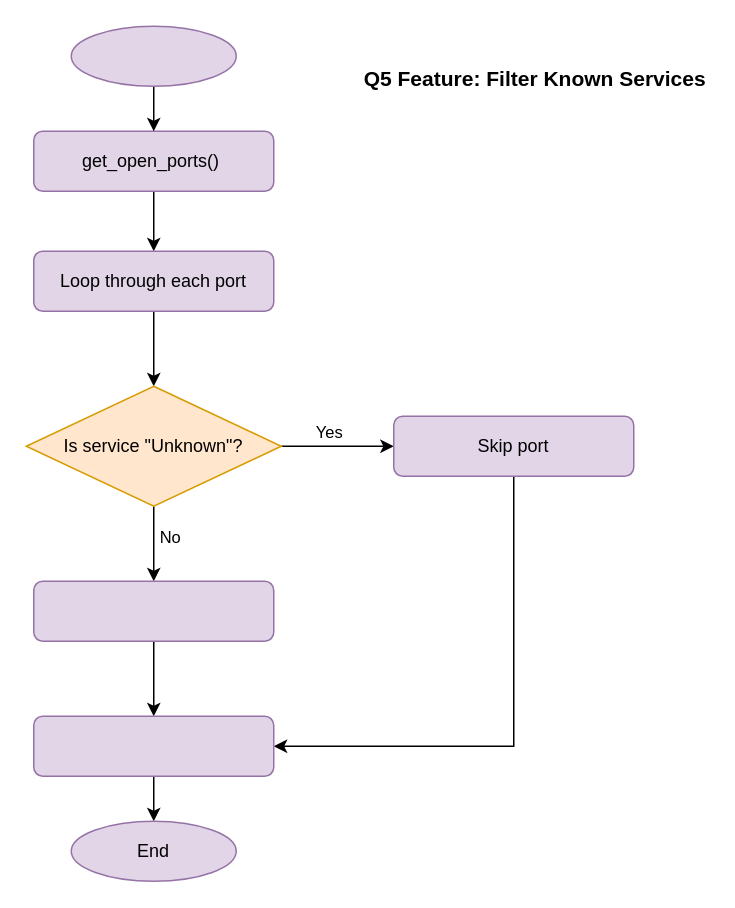
Image size: 735x908. Some labels were removed from this diagram. Each missing label, with the centre of its shape:
"Append to results" belongs at pixel 153 610.
"Print filtered ports" belongs at pixel 153 745.
"Start" belongs at pixel 153 55.
